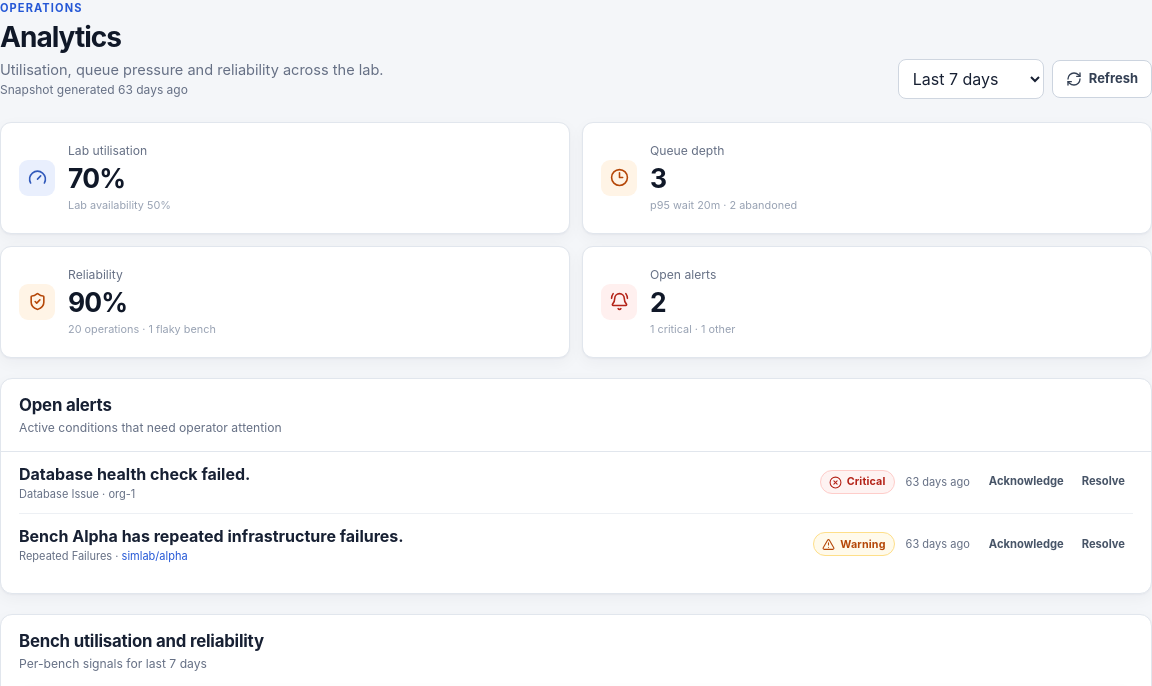
Scenario: AnalyticsPage › offers alert actions only to managers and acknowledges through the typed API
Click the button with aria-label "Acknowledge alert: Database health check failed." at {"x": 1026, "y": 482}, box [981,467,1072,497]
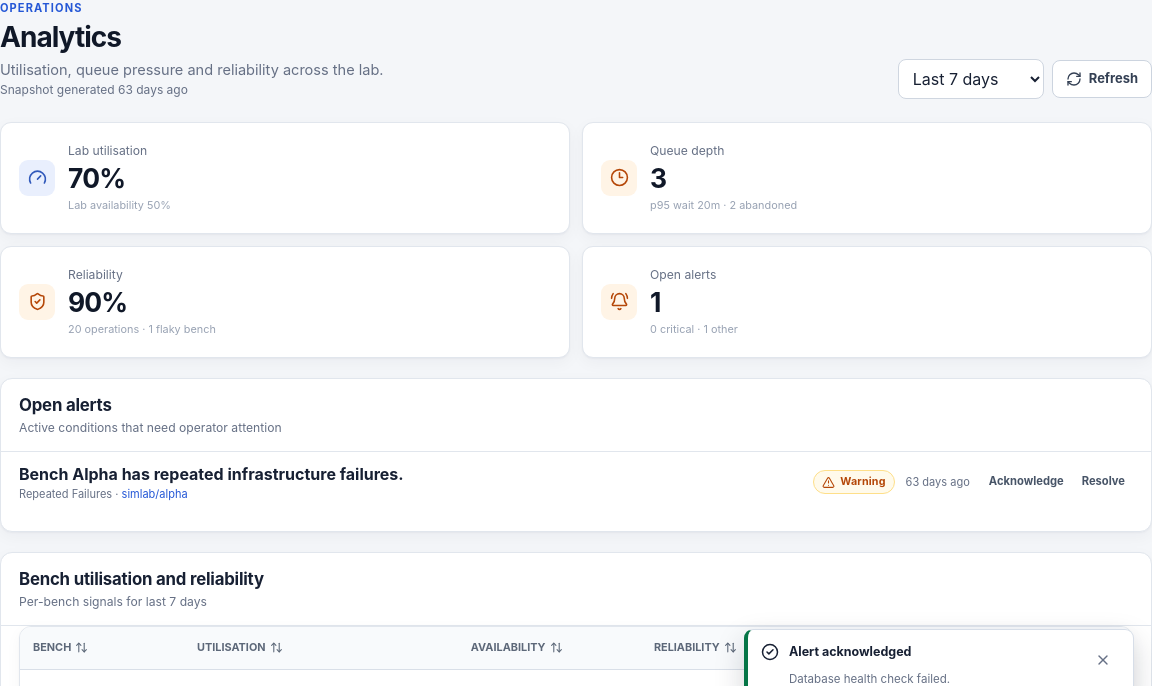
Now the text "Alert acknowledged" is shown, box [789,644,911,659]
